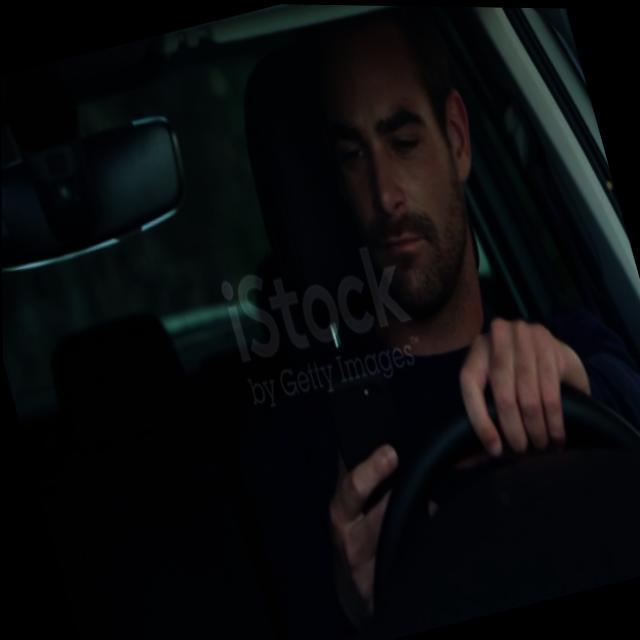PhoneCall: (320, 365, 416, 508)
